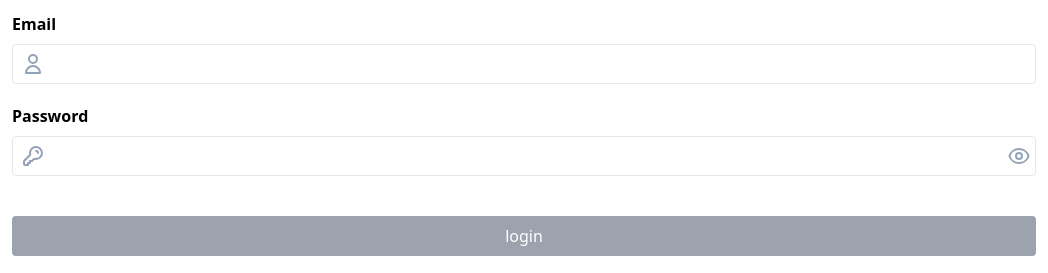
Test: loginFormComponent › Once form is filled login button must be enabled
The width and height of the screenshot is (1048, 273).
Type "mail@mail.com" into the field labelled "Email" at [544, 64], box [53, 52, 1035, 76]
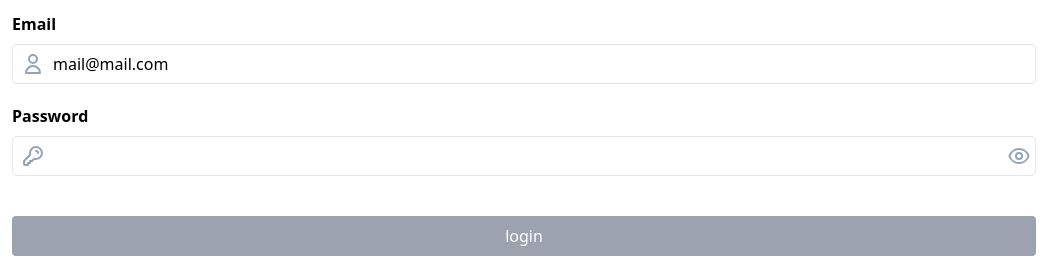
Type "password" into the password field labelled "Password" at [530, 156], box [53, 144, 1007, 168]
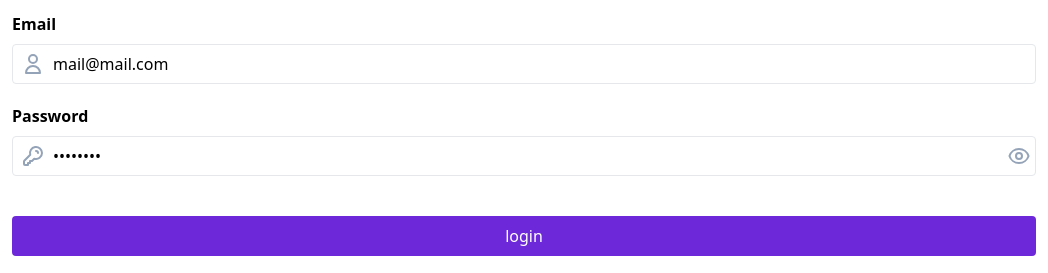
Result: the button "login" is enabled at [12, 216, 1036, 256]
